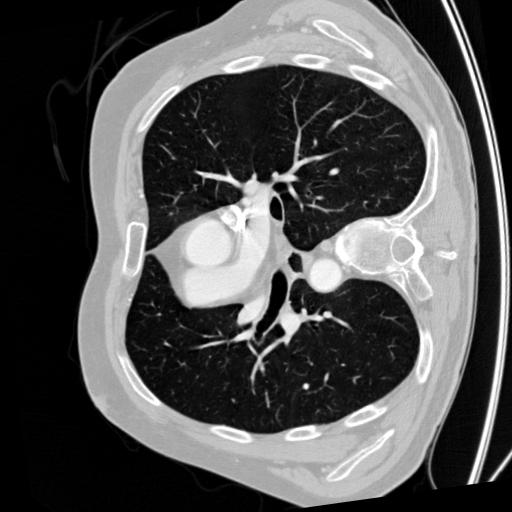nodule: (299, 379, 313, 393)
